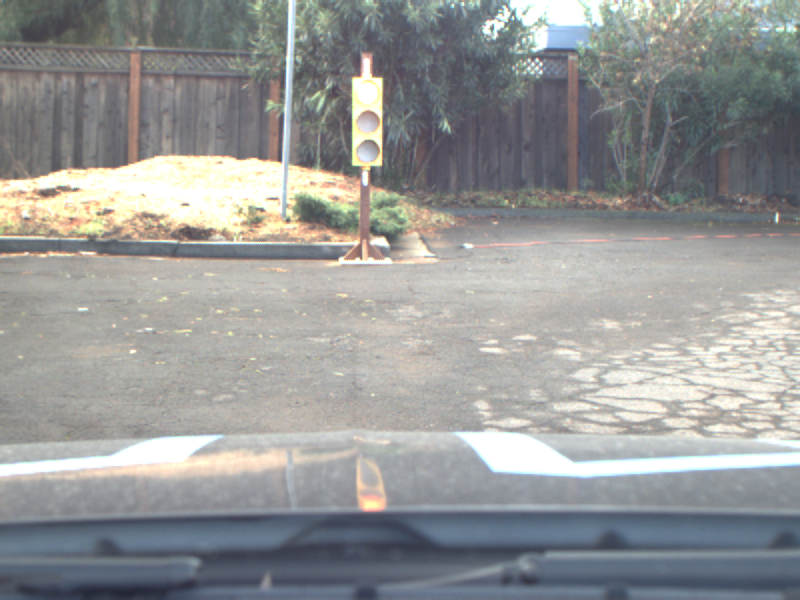Red: (351, 75, 384, 166)
